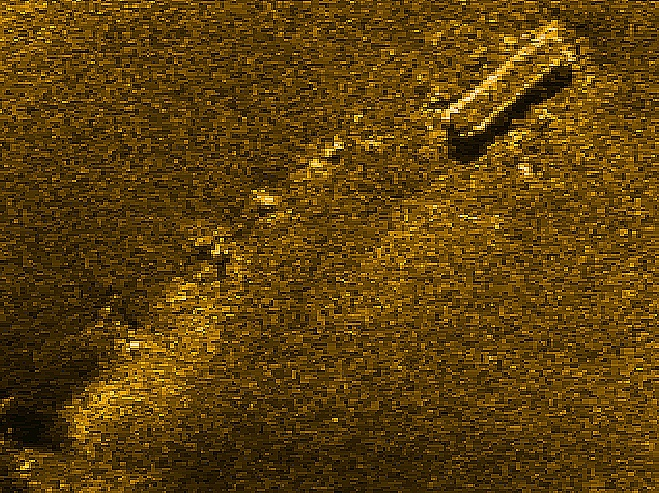ship: (439, 19, 576, 140)
